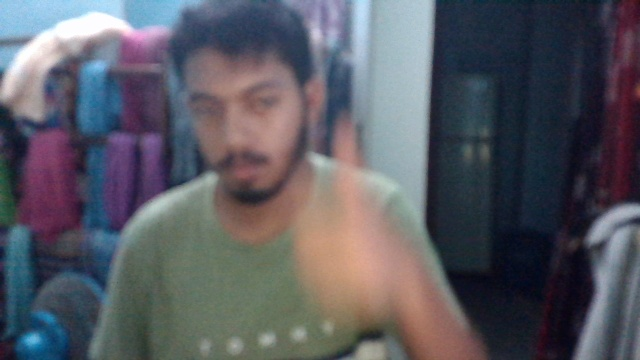yes: (298, 150, 416, 340)
